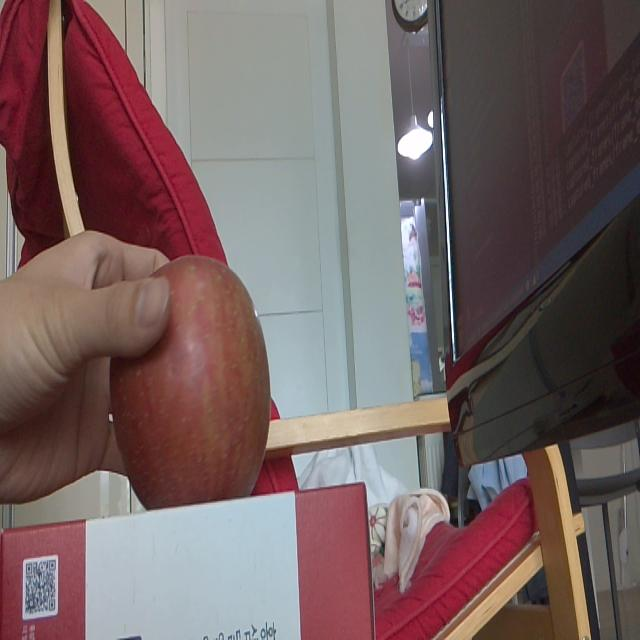apple: (110, 257, 272, 498)
